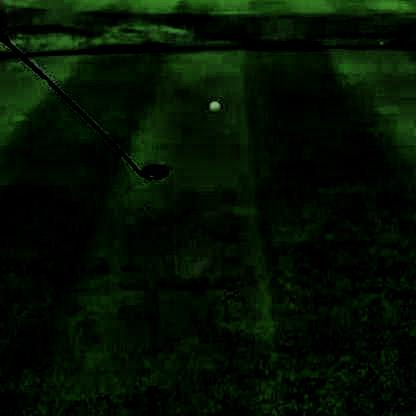golfball: (207, 98, 219, 111)
